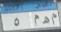5: (10, 17, 21, 28)
م: (49, 11, 57, 25), (33, 13, 39, 27)
ه: (39, 14, 50, 26)
